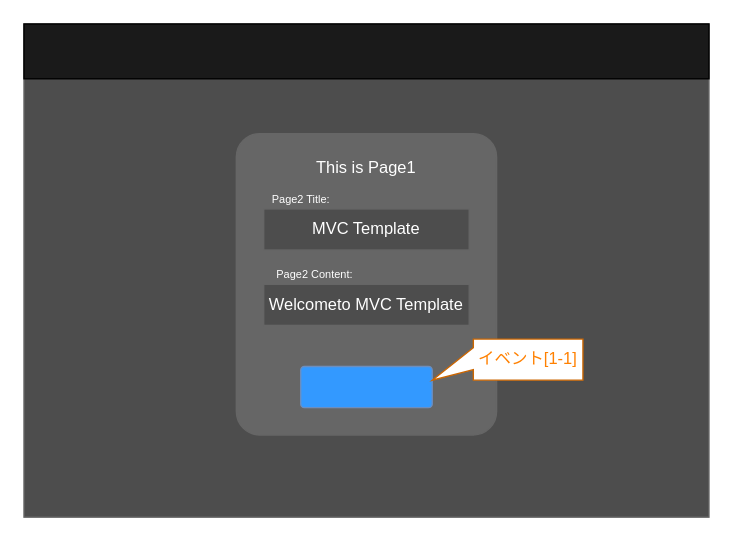
Image size: 733x541. Some labels were removed from this diagram. The shapes that lost their labels are listed below. From the top down, each one's centre as x and y in pixels, then its label:
the point at 366,51: MVCテンプレート
the point at 365,386: Send
